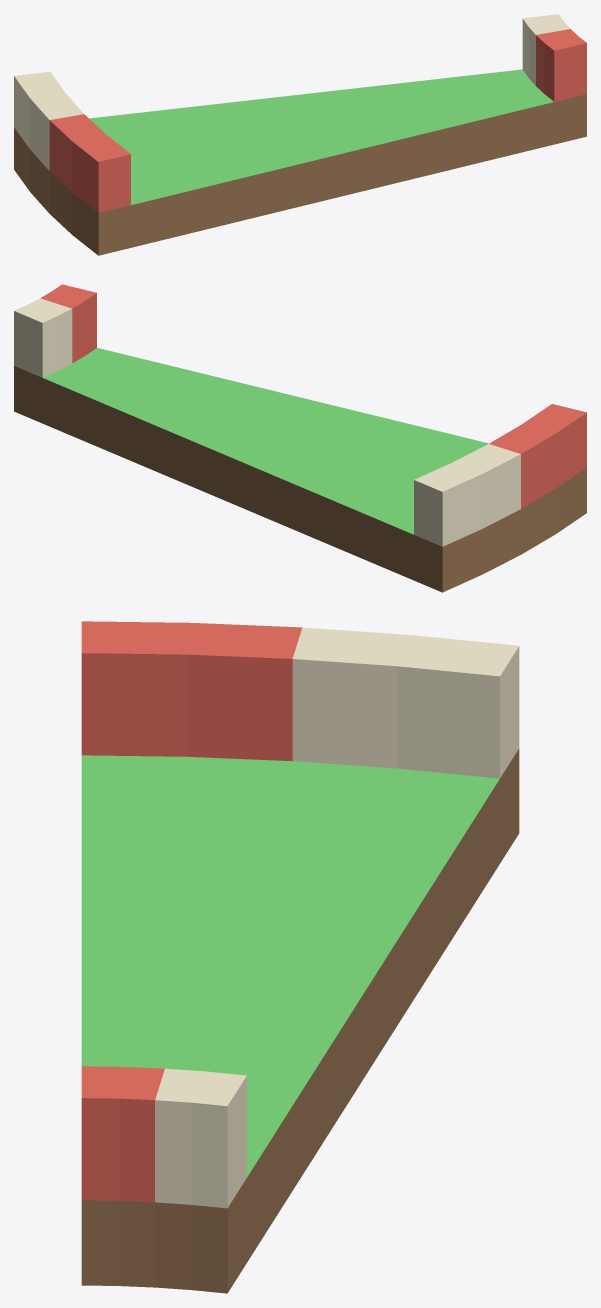
The model's file is carnival_turn_15deg_rounded.glb.
3 views of the same model, one above another, from view 1: azimuth 30°, elevation 25°; view 2: azimuth 150°, elevation 25°; view 3: azimuth 270°, elevation 25° (orthographic). The views are drawn at different scales.
Visible parts, largest first — view 1: Mesh_Floor.007, Mesh_Wall_L.009, Mesh_Wall_R.009; view 2: Mesh_Floor.007, Mesh_Wall_L.009, Mesh_Wall_R.009; view 3: Mesh_Floor.007, Mesh_Wall_L.009, Mesh_Wall_R.009.
Boxes of the visible parts, <box> form: Mesh_Floor.007: <box>14,69,586,255</box>; Mesh_Wall_L.009: <box>14,72,130,212</box>; Mesh_Wall_R.009: <box>522,14,586,101</box>; Mesh_Floor.007: <box>14,348,586,592</box>; Mesh_Wall_L.009: <box>414,404,586,546</box>; Mesh_Wall_R.009: <box>14,284,96,377</box>; Mesh_Floor.007: <box>81,748,519,1293</box>; Mesh_Wall_L.009: <box>81,621,519,778</box>; Mesh_Wall_R.009: <box>81,1066,246,1208</box>.
Size of what is drawn, in the model's own units: 6.1 by 1.1 by 2.33.
